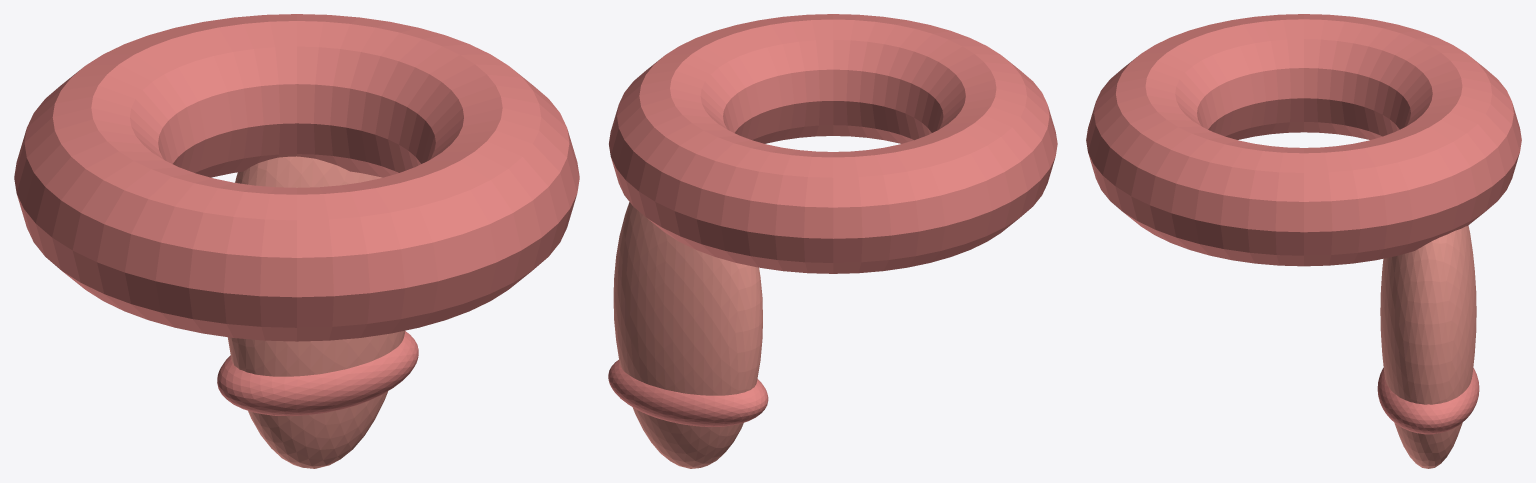
Rendered from classic_scarf.glb.
The picture shows the model from 3 angles, left to right: view 1: azimuth 30°, elevation 25°; view 2: azimuth 150°, elevation 25°; view 3: azimuth 270°, elevation 25°; orthographic projection. The views are drawn at different scales.
Parts seen in each view (by area): view 1: classic_scarf_0, classic_scarf_1, classic_scarf_2; view 2: classic_scarf_0, classic_scarf_1, classic_scarf_2; view 3: classic_scarf_0, classic_scarf_1, classic_scarf_2.
Boxes of the visible parts, x1=… form: classic_scarf_0: x1=14, y1=14, x2=579, y2=341; classic_scarf_1: x1=227, y1=156, x2=405, y2=468; classic_scarf_2: x1=217, y1=331, x2=418, y2=415; classic_scarf_0: x1=609, y1=14, x2=1057, y2=273; classic_scarf_1: x1=613, y1=202, x2=762, y2=468; classic_scarf_2: x1=608, y1=360, x2=768, y2=426; classic_scarf_0: x1=1086, y1=14, x2=1521, y2=266; classic_scarf_1: x1=1380, y1=225, x2=1476, y2=468; classic_scarf_2: x1=1377, y1=368, x2=1479, y2=434.
Bounding box in the file's own units: 0.77 × 0.665 × 0.77.
